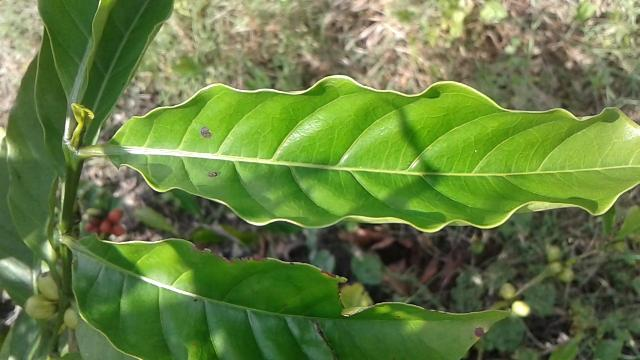healthy: (100, 68, 640, 238)
